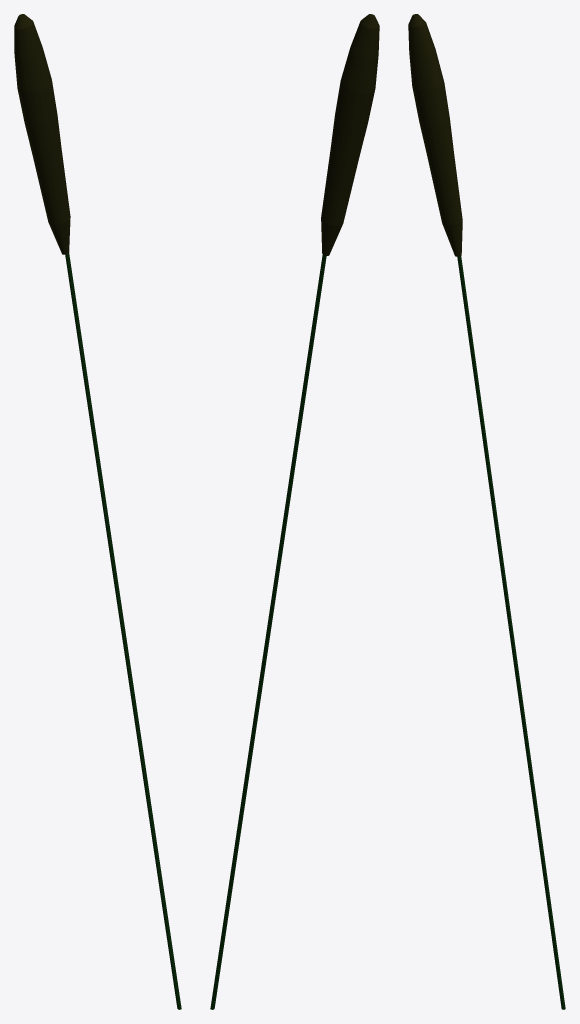
Rendered from plant.fbx.
3 renders of one model, left to right at view 1: azimuth 30°, elevation 25°; view 2: azimuth 150°, elevation 25°; view 3: azimuth 330°, elevation 25°, orthographic. The views are drawn at different scales.
Visible parts, largest first — view 1: Cylinder, Cube; view 2: Cylinder, Cube; view 3: Cylinder, Cube.
Boxes of the visible parts, <box> form: Cylinder: <box>14,14,70,254</box>; Cube: <box>65,253,181,1009</box>; Cylinder: <box>321,14,379,255</box>; Cube: <box>210,254,326,1009</box>; Cylinder: <box>408,14,462,256</box>; Cube: <box>457,256,565,1009</box>.
Bounding box in the file's own units: 121 × 716 × 19.02.
